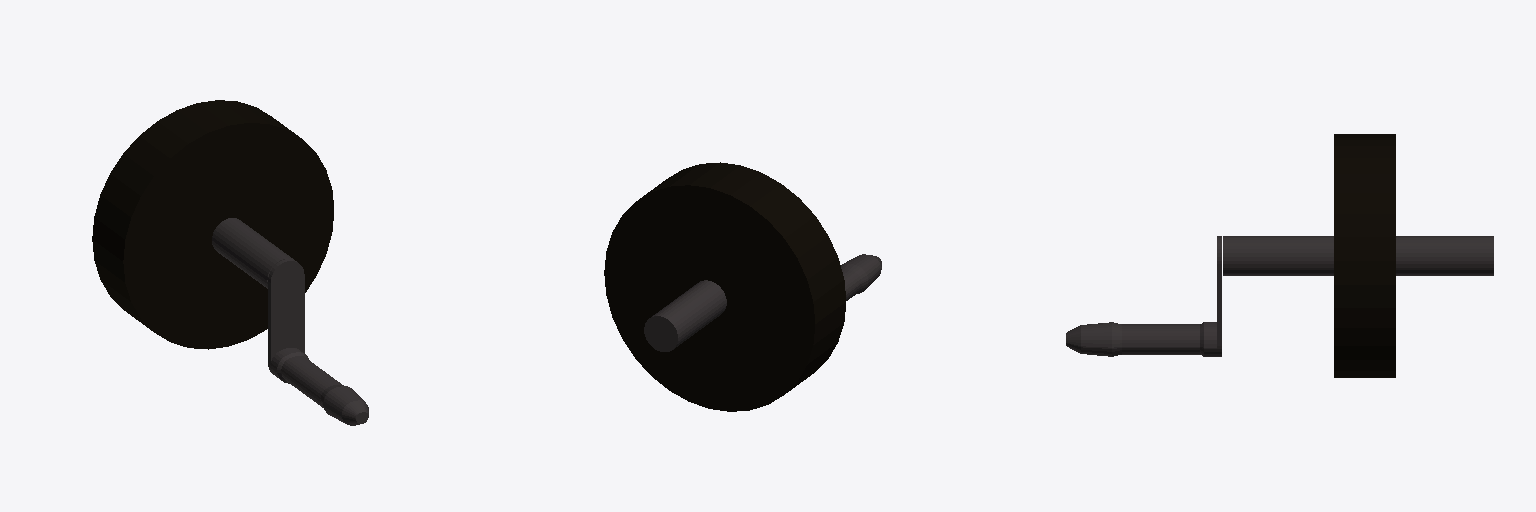
The model's file is grindstonewheel.obj.
3 views of the same model, side by side, from view 1: azimuth 30°, elevation 25°; view 2: azimuth 150°, elevation 25°; view 3: azimuth 270°, elevation 25° (orthographic).
Parts seen in each view (by area): view 1: Cylinder.001; view 2: Cylinder.001; view 3: Cylinder.001.
Part boxes in pixels (x1,y1,x2,y2): Cylinder.001: (92, 100, 368, 425); Cylinder.001: (604, 162, 881, 411); Cylinder.001: (1066, 134, 1493, 377).
Bounding box in the file's own units: 2 × 2 × 3.51.